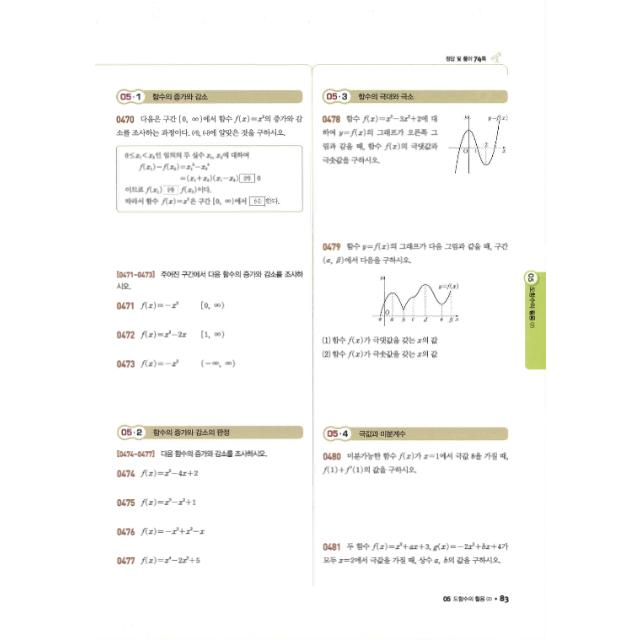many_in_one: (107, 258, 309, 292), (106, 442, 308, 460)
short: (315, 236, 513, 368), (109, 109, 308, 228), (315, 108, 517, 186), (317, 444, 517, 482), (316, 534, 514, 570)
small: (109, 290, 229, 318), (109, 322, 235, 346), (108, 350, 240, 372), (110, 460, 202, 486), (109, 547, 207, 571), (110, 491, 200, 517), (110, 521, 206, 543)
